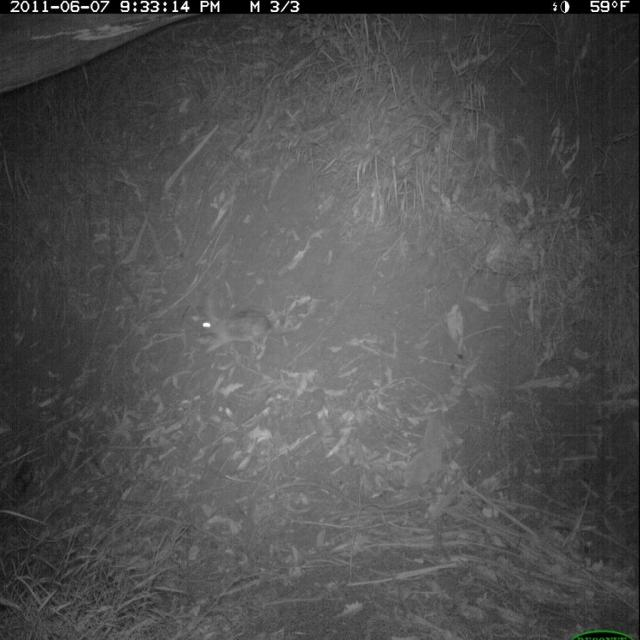rabbit: (192, 283, 277, 368)
